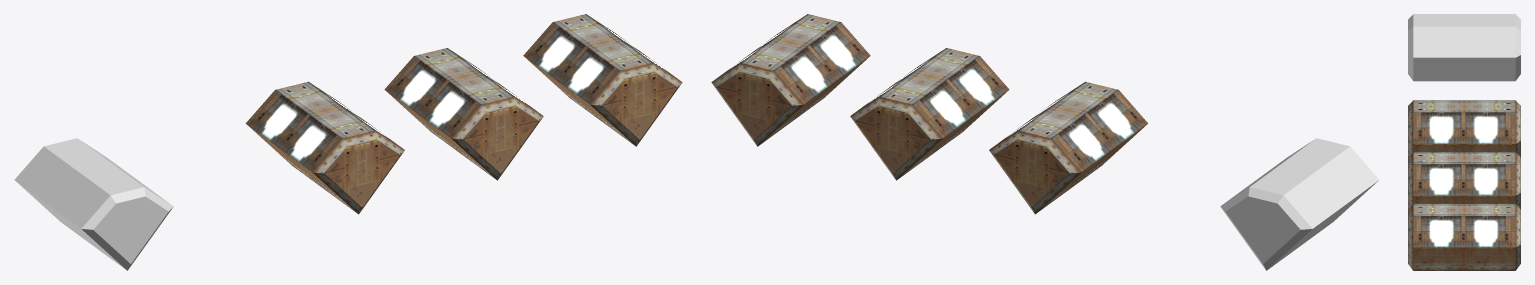
File: ksh_sec_ms_orecanisterlarge.dae
3 renders of one model, left to right at view 1: azimuth 30°, elevation 25°; view 2: azimuth 150°, elevation 25°; view 3: azimuth 270°, elevation 25°, orthographic. The views are drawn at different scales.
Visible parts, largest first — view 1: MULT[root_mesh]_LOD[1], MULT[root_mesh]_LOD[0], MULT[root_mesh]_LOD[2], COL[Root]; view 2: MULT[root_mesh]_LOD[1], MULT[root_mesh]_LOD[0], MULT[root_mesh]_LOD[2], COL[Root]; view 3: MULT[root_mesh]_LOD[2], COL[Root], MULT[root_mesh]_LOD[0], MULT[root_mesh]_LOD[1].
Part boxes in pixels (x1,y1,x2,y2): MULT[root_mesh]_LOD[1]: (384,48,543,180); MULT[root_mesh]_LOD[0]: (246,81,404,214); MULT[root_mesh]_LOD[2]: (523,14,682,146); COL[Root]: (14,138,173,270); MULT[root_mesh]_LOD[1]: (850,48,1009,180); MULT[root_mesh]_LOD[0]: (989,81,1147,214); MULT[root_mesh]_LOD[2]: (711,14,870,146); COL[Root]: (1220,138,1379,270); MULT[root_mesh]_LOD[2]: (1408,203,1520,270); COL[Root]: (1408,14,1520,81); MULT[root_mesh]_LOD[0]: (1408,100,1520,157); MULT[root_mesh]_LOD[1]: (1408,152,1520,208).
Bounding box in the file's own units: 2021 × 256 × 430.
Materials: 5 (5 with a texture image).
